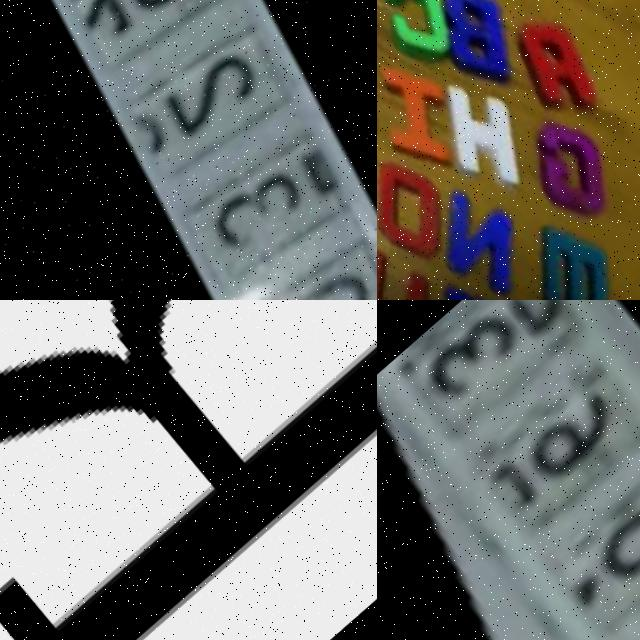0: (581, 475, 640, 620), (262, 251, 377, 300)
2: (155, 34, 297, 171)
3: (410, 300, 549, 426), (206, 154, 339, 283)
6: (505, 374, 640, 514), (110, 0, 249, 44)
A: (501, 7, 627, 136)
B: (413, 0, 545, 107)
C: (377, 0, 483, 85)
G: (511, 115, 640, 249)
H: (414, 70, 558, 218)
I: (377, 51, 492, 197)
M: (510, 209, 640, 300)
N: (418, 181, 556, 300)
O: (377, 148, 476, 277)
P: (377, 124, 403, 256)
R: (0, 300, 377, 640)
U: (377, 235, 465, 300)
